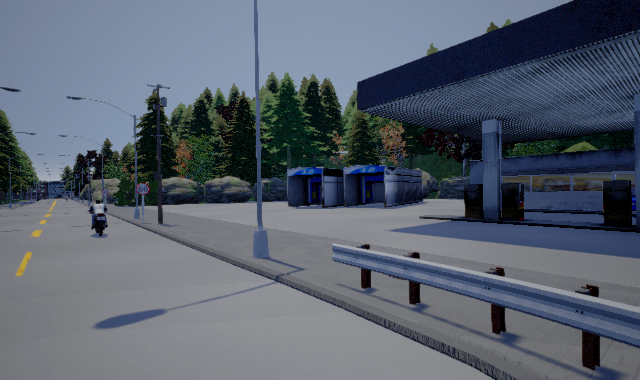bike: (87, 200, 111, 235)
traffic_sign: (136, 183, 150, 195), (101, 189, 109, 195)
